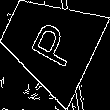P_NW: (21, 14, 77, 70)
